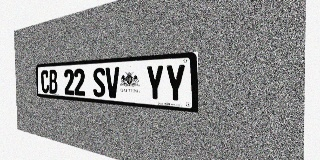2: (74, 68, 85, 96), (64, 69, 74, 95)
B: (49, 70, 58, 94)
C: (41, 70, 49, 93)
S: (93, 67, 106, 97)
V: (105, 67, 120, 98)
Y: (165, 64, 186, 103), (145, 65, 164, 102)
